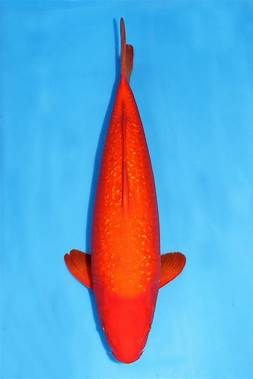red: (63, 18, 186, 364)
